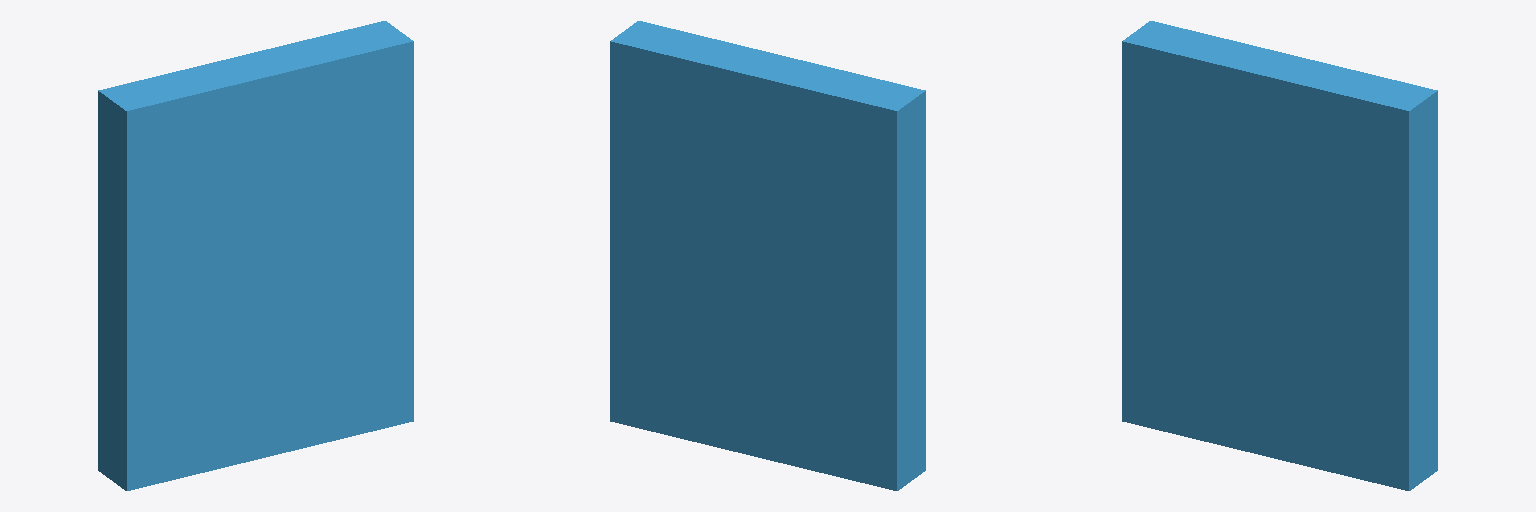
URDF robot description (lumi):
<?xml version="1.0" ?>
<!-- =================================================================================== -->
<!-- |    This document was autogenerated by xacro from [local-path]/ws/src/lumi_testbed/lumi_description/robots/robot_table_env.urdf.xacro | -->
<!-- |    EDITING THIS FILE BY HAND IS NOT RECOMMENDED                                 | -->
<!-- =================================================================================== -->
<robot name="lumi" xmlns:xacro="http://www.ros.org/wiki/xacro">
  <mujoco>
    <compiler balanceinertia="true" discardvisual="false" meshdir="/meshes/"/>
  </mujoco>

  <link name="base_link">
  </link>

  <joint name="door_hinge" type="fixed">
  	<parent link="base_link"/>
    <child link="door"/>
    <origin rpy="0 0 0" xyz="262 49 0"/>
  </joint>

  <link name="door">
    <visual>
      <geometry>
        <!--<mesh filename="package://lumi_description/meshes/table.stl" scale="1 1 1"/>-->
        <mesh filename="package://franka_sim/model/meshes/door_v4_bin.stl" scale=".001 .001 .001"/>
        <!--<mesh filename="package://simulator/modeling/stl/door_v1.stl" scale="1 1 1"/>-->
      </geometry>
    </visual>
    <collision>
      <geometry>
       <!-- <mesh filename="package://lumi_description/meshes/table.stl" scale="1 1 1"/>-->
       <mesh filename="package://franka_sim/model/meshes/door_v4_bin.stl" scale=".001 .001 .001"/>
       <!--<mesh filename="package://simulator/modeling/stl/door_v1.stl" scale="1 1 1"/>-->
      </geometry>
    </collision>
  </link>

  <joint name="lumi_joint_base_link" type="fixed">
    <parent link="base_link"/>
    <child link="lumi_link0"/>
    <origin rpy="0 0 0" xyz="-0.4 0.15 0."/>
  </joint>
  <link name="lumi_link0">
    <visual>
      <geometry>
        <mesh filename="package://franka_description/meshes/visual/link0.dae"/>
      </geometry>
    </visual>
    <collision>
      <geometry>
        <mesh filename="package://franka_description/meshes/collision/link0.stl"/>
      </geometry>
    </collision>
  </link>
  <link name="lumi_link1">
    <visual>
      <geometry>
        <mesh filename="package://franka_description/meshes/visual/link1.dae"/>
      </geometry>
    </visual>
    <collision>
      <geometry>
        <mesh filename="package://franka_description/meshes/collision/link1.stl"/>
      </geometry>
    </collision>
  </link>
  <joint name="lumi_joint1" type="revolute">
    <safety_controller k_position="100.0" k_velocity="40.0" soft_lower_limit="-2.8973" soft_upper_limit="2.8973"/>
    <origin rpy="0 0 0" xyz="0 0 0.333"/>
    <parent link="lumi_link0"/>
    <child link="lumi_link1"/>
    <axis xyz="0 0 1"/>
    <limit effort="87" lower="-2.8973" upper="2.8973" velocity="2.1750"/>
  </joint>
  <link name="lumi_link2">
    <visual>
      <geometry>
        <mesh filename="package://franka_description/meshes/visual/link2.dae"/>
      </geometry>
    </visual>
    <collision>
      <geometry>
        <mesh filename="package://franka_description/meshes/collision/link2.stl"/>
      </geometry>
    </collision>
  </link>
  <joint name="lumi_joint2" type="revolute">
    <safety_controller k_position="100.0" k_velocity="40.0" soft_lower_limit="-1.7628" soft_upper_limit="1.7628"/>
    <origin rpy="-1.57079632679 0 0" xyz="0 0 0"/>
    <parent link="lumi_link1"/>
    <child link="lumi_link2"/>
    <axis xyz="0 0 1"/>
    <limit effort="87" lower="-1.7628" upper="1.7628" velocity="2.1750"/>
  </joint>
  <link name="lumi_link3">
    <visual>
      <geometry>
        <mesh filename="package://franka_description/meshes/visual/link3.dae"/>
      </geometry>
    </visual>
    <collision>
      <geometry>
        <mesh filename="package://franka_description/meshes/collision/link3.stl"/>
      </geometry>
    </collision>
  </link>
  <joint name="lumi_joint3" type="revolute">
    <safety_controller k_position="100.0" k_velocity="40.0" soft_lower_limit="-2.8973" soft_upper_limit="2.8973"/>
    <origin rpy="1.57079632679 0 0" xyz="0 -0.316 0"/>
    <parent link="lumi_link2"/>
    <child link="lumi_link3"/>
    <axis xyz="0 0 1"/>
    <limit effort="87" lower="-2.8973" upper="2.8973" velocity="2.1750"/>
  </joint>
  <link name="lumi_link4">
    <visual>
      <geometry>
        <mesh filename="package://franka_description/meshes/visual/link4.dae"/>
      </geometry>
    </visual>
    <collision>
      <geometry>
        <mesh filename="package://franka_description/meshes/collision/link4.stl"/>
      </geometry>
    </collision>
  </link>
  <joint name="lumi_joint4" type="revolute">
    <safety_controller k_position="100.0" k_velocity="40.0" soft_lower_limit="-3.0718" soft_upper_limit="-0.0698"/>
    <origin rpy="1.57079632679 0 0" xyz="0.0825 0 0"/>
    <parent link="lumi_link3"/>
    <child link="lumi_link4"/>
    <axis xyz="0 0 1"/>
    <limit effort="87" lower="-3.0718" upper="-0.0698" velocity="2.1750"/>
  </joint>
  <link name="lumi_link5">
    <visual>
      <geometry>
        <mesh filename="package://franka_description/meshes/visual/link5.dae"/>
      </geometry>
    </visual>
    <collision>
      <geometry>
        <mesh filename="package://franka_description/meshes/collision/link5.stl"/>
      </geometry>
    </collision>
  </link>
  <joint name="lumi_joint5" type="revolute">
    <safety_controller k_position="100.0" k_velocity="40.0" soft_lower_limit="-2.8973" soft_upper_limit="2.8973"/>
    <origin rpy="-1.57079632679 0 0" xyz="-0.0825 0.384 0"/>
    <parent link="lumi_link4"/>
    <child link="lumi_link5"/>
    <axis xyz="0 0 1"/>
    <limit effort="12" lower="-2.8973" upper="2.8973" velocity="2.6100"/>
  </joint>
  <link name="lumi_link6">
    <visual>
      <geometry>
        <mesh filename="package://franka_description/meshes/visual/link6.dae"/>
      </geometry>
    </visual>
    <collision>
      <geometry>
        <mesh filename="package://franka_description/meshes/collision/link6.stl"/>
      </geometry>
    </collision>
  </link>
  <joint name="lumi_joint6" type="revolute">
    <safety_controller k_position="100.0" k_velocity="40.0" soft_lower_limit="-0.0175" soft_upper_limit="3.7525"/>
    <origin rpy="1.57079632679 0 0" xyz="0 0 0"/>
    <parent link="lumi_link5"/>
    <child link="lumi_link6"/>
    <axis xyz="0 0 1"/>
    <limit effort="12" lower="-0.0175" upper="3.7525" velocity="2.6100"/>
  </joint>
  <link name="lumi_link7">
    <visual>
      <geometry>
        <mesh filename="package://franka_description/meshes/visual/link7.dae"/>
      </geometry>
    </visual>
    <collision>
      <geometry>
        <mesh filename="package://franka_description/meshes/collision/link7.stl"/>
      </geometry>
    </collision>
  </link>
  <joint name="lumi_joint7" type="revolute">
    <safety_controller k_position="100.0" k_velocity="40.0" soft_lower_limit="-2.8973" soft_upper_limit="2.8973"/>
    <origin rpy="1.57079632679 0 0" xyz="0.088 0 0"/>
    <parent link="lumi_link6"/>
    <child link="lumi_link7"/>
    <axis xyz="0 0 1"/>
    <limit effort="12" lower="-2.8973" upper="2.8973" velocity="2.6100"/>
  </joint>
  <link name="lumi_link8"/>
  <joint name="lumi_joint8" type="fixed">
    <origin rpy="0 0 0" xyz="0 0 0.107"/>
    <parent link="lumi_link7"/>
    <child link="lumi_link8"/>
    <axis xyz="0 0 0"/>
  </joint>
  <joint name="lumi_hand_joint" type="fixed">
    <parent link="lumi_link8"/>
    <child link="lumi_hand"/>
    <origin rpy="0 0 -0.785398163397" xyz="0 0 0"/>
  </joint>
  <link name="lumi_hand">
    <visual>
      <geometry>
        <mesh filename="package://franka_description/meshes/visual/hand.dae"/>
      </geometry>
    </visual>
    <collision>
      <geometry>
        <mesh filename="package://franka_description/meshes/collision/hand.stl"/>
      </geometry>
    </collision>
  </link>
  <link name="lumi_leftfinger">
    <visual>
      <geometry>
        <mesh filename="package://franka_description/meshes/visual/finger.dae"/>
      </geometry>
    </visual>
    <collision>
      <geometry>
        <mesh filename="package://franka_description/meshes/collision/finger.stl"/>
      </geometry>
    </collision>
  </link>
  <link name="lumi_rightfinger">
    <visual>
      <origin rpy="0 0 3.14159265359" xyz="0 0 0"/>
      <geometry>
        <mesh filename="package://franka_description/meshes/visual/finger.dae"/>
      </geometry>
    </visual>
    <collision>
      <origin rpy="0 0 3.14159265359" xyz="0 0 0"/>
      <geometry>
        <mesh filename="package://franka_description/meshes/collision/finger.stl"/>
      </geometry>
    </collision>
  </link>
  <joint name="lumi_finger_joint1" type="prismatic">
    <parent link="lumi_hand"/>
    <child link="lumi_leftfinger"/>
    <origin rpy="0 0 0" xyz="0 0 0.0584"/>
    <axis xyz="0 1 0"/>
    <limit effort="20" lower="0.0" upper="0.04" velocity="0.2"/>
  </joint>
  <joint name="lumi_finger_joint2" type="prismatic">
    <parent link="lumi_hand"/>
    <child link="lumi_rightfinger"/>
    <origin rpy="0 0 0" xyz="0 0 0.0584"/>
    <axis xyz="0 -1 0"/>
    <limit effort="20" lower="0.0" upper="0.04" velocity="0.2"/>
    <mimic joint="lumi_finger_joint1"/>
  </joint>
</robot>

--- Render facts (derived) ---
The picture shows the robot from 3 angles, left to right: view 1: azimuth 30°, elevation 25°; view 2: azimuth 150°, elevation 25°; view 3: azimuth 330°, elevation 25°; orthographic projection.
Model lumi with 14 links and 13 joints (7 revolute, 2 prismatic, 4 fixed), rooted at base_link, posed all joints at 0 but 1 set to mid-range because 0 is outside their limits (lumi_joint4 = -1.57).
Links seen in each view (by area): view 1: door; view 2: door; view 3: door.
Link boxes in pixels (box(x1,y1,x2,y2)): door: box(98, 21, 413, 490); door: box(610, 21, 925, 490); door: box(1122, 21, 1437, 490).
Bounding box of the posed robot: 0.257 × 0.044 × 0.325 m (x, y, z).
Meshes: 11 distinct files referenced, 1 mesh visuals loaded (1 binary STL); not drawn: 11 (reference not matched to a file when rendering).